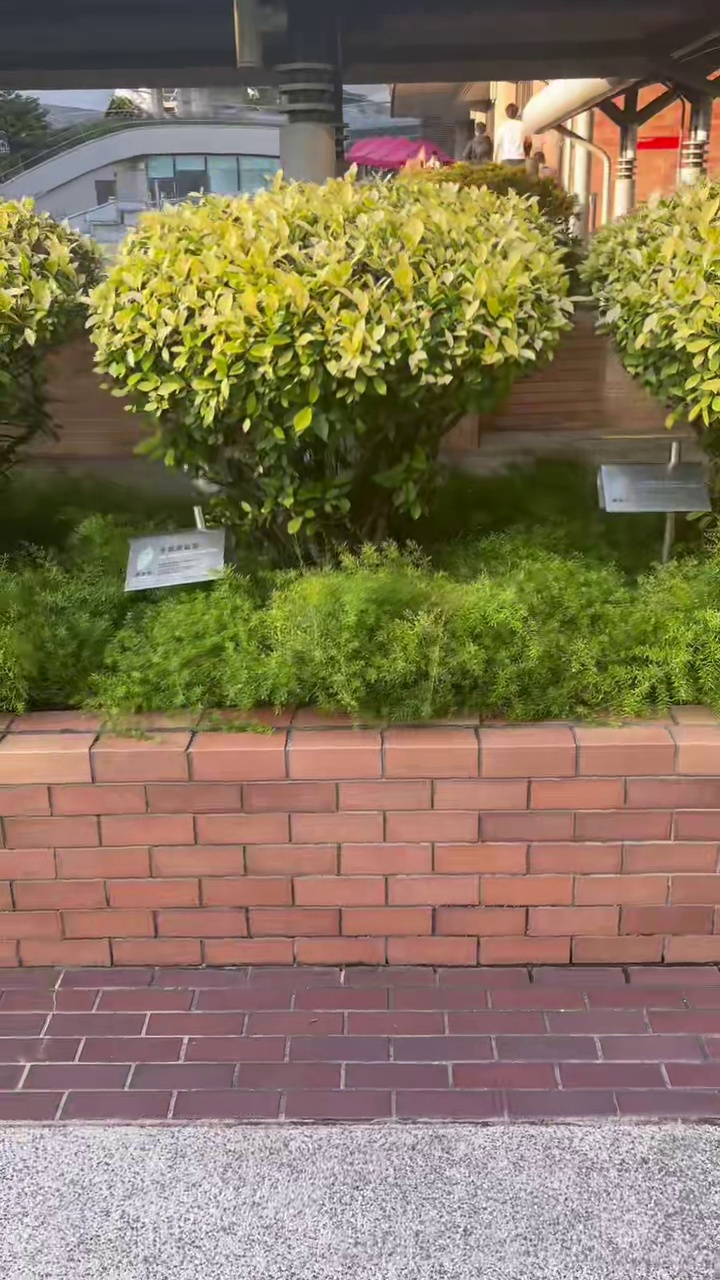Golden-leaves Fig: (88, 172, 570, 557)
